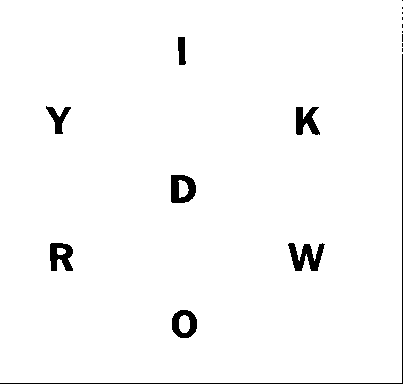I: (171, 31, 193, 71)
